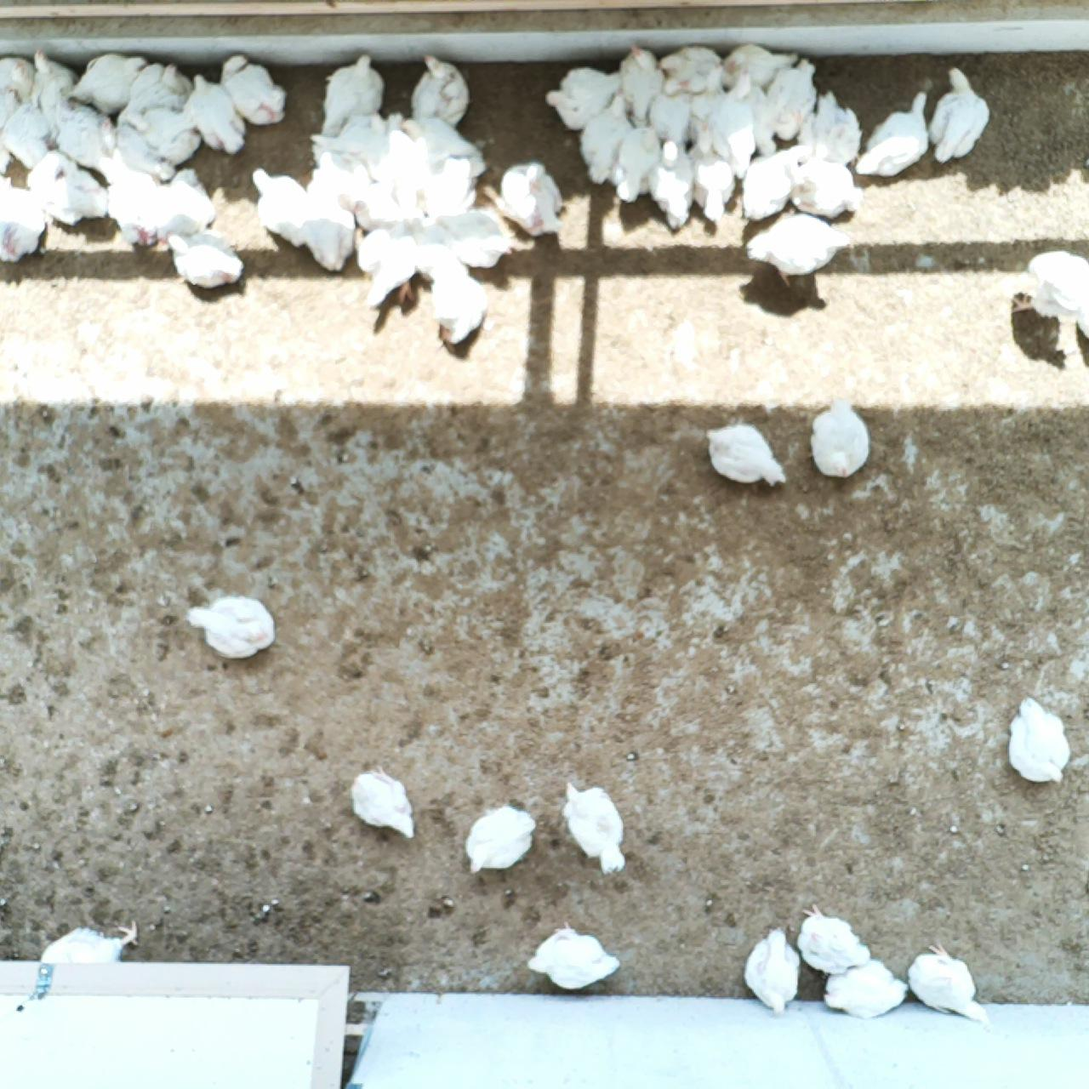chicken: (748, 213, 856, 288), (709, 67, 773, 175), (415, 208, 517, 275), (910, 942, 992, 1025), (528, 922, 621, 994), (855, 92, 932, 176), (483, 164, 565, 237), (188, 591, 276, 659), (319, 56, 389, 141), (1011, 250, 1089, 326), (931, 67, 994, 160), (26, 152, 108, 223), (563, 782, 627, 872), (313, 110, 404, 173), (1006, 697, 1071, 785), (357, 222, 420, 311), (113, 117, 208, 176), (430, 264, 490, 356), (744, 925, 804, 1014), (705, 424, 788, 487), (409, 51, 473, 132), (741, 146, 810, 221), (66, 51, 150, 112), (801, 904, 872, 976), (220, 56, 291, 128), (188, 74, 251, 154), (827, 959, 909, 1020), (406, 118, 489, 178), (122, 60, 198, 125), (250, 165, 310, 246), (687, 124, 736, 223), (797, 93, 865, 163), (811, 400, 871, 479), (465, 807, 533, 875), (53, 99, 117, 171), (649, 141, 700, 231), (793, 154, 862, 220), (352, 767, 414, 840), (548, 65, 621, 127), (583, 93, 632, 184), (31, 47, 81, 136), (170, 231, 245, 290), (38, 921, 139, 964), (106, 171, 160, 251), (720, 42, 808, 91), (419, 159, 480, 229), (687, 63, 733, 152), (615, 43, 663, 128), (159, 170, 217, 240), (770, 61, 822, 139), (0, 87, 48, 170), (307, 192, 357, 271), (378, 130, 427, 210), (615, 123, 663, 204), (0, 183, 46, 262), (307, 155, 372, 210), (660, 38, 727, 91), (648, 80, 697, 151), (352, 188, 416, 234), (0, 51, 36, 99)
